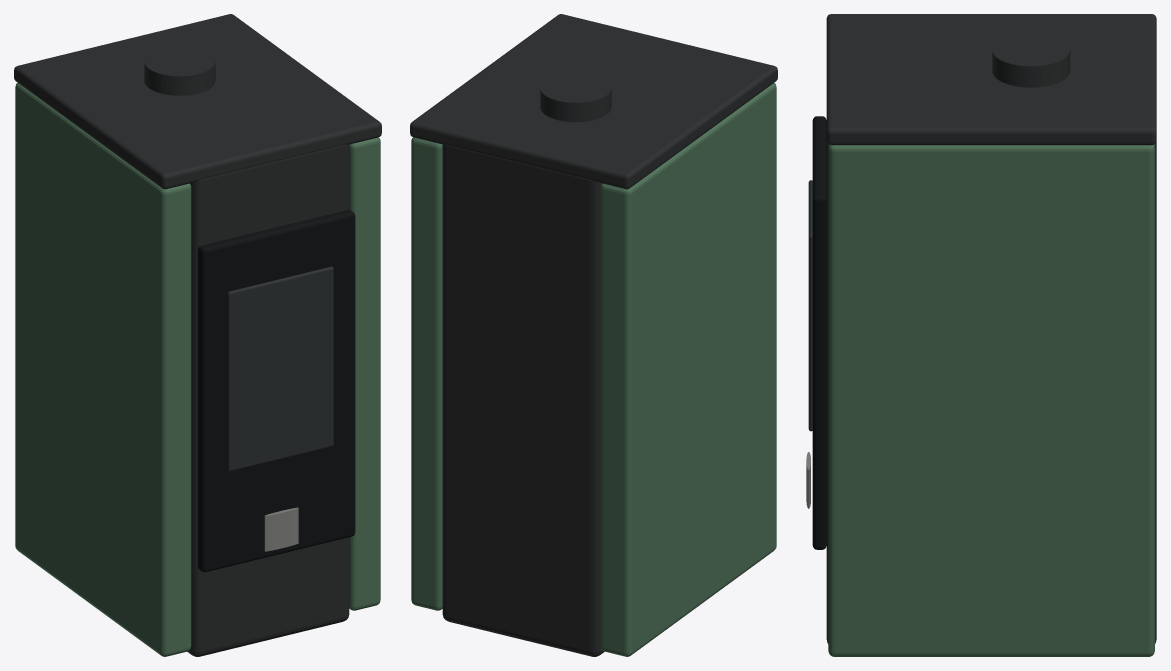
The model's file is nordica-super-junior-lean-verde.glb.
3 views of the same model, side by side, from view 1: azimuth 30°, elevation 25°; view 2: azimuth 150°, elevation 25°; view 3: azimuth 270°, elevation 25° (orthographic). The views are drawn at different scales.
Parts seen in each view (by area): view 1: Rivestimento laterale, Coperchio, Porta, Corpo, Vetro sportello, Rivestimento laterale.001, Scarico fumi, Regolatore aria; view 2: Rivestimento laterale, Corpo, Coperchio, Rivestimento laterale.001, Scarico fumi; view 3: Rivestimento laterale.001, Coperchio, Porta, Scarico fumi, Corpo, Vetro sportello.
Part boxes in pixels (x1,y1,x2,y2): Rivestimento laterale: [15, 82, 191, 656]; Coperchio: [14, 14, 381, 189]; Porta: [198, 210, 355, 572]; Corpo: [187, 144, 349, 656]; Vetro sportello: [227, 266, 333, 471]; Rivestimento laterale.001: [349, 137, 380, 610]; Scarico fumi: [144, 46, 215, 95]; Regolatore aria: [264, 507, 298, 551]; Rivestimento laterale: [600, 82, 776, 656]; Corpo: [442, 144, 604, 656]; Coperchio: [410, 14, 777, 189]; Rivestimento laterale.001: [411, 137, 442, 610]; Scarico fumi: [540, 72, 611, 122]; Rivestimento laterale.001: [828, 144, 1154, 656]; Coperchio: [826, 14, 1156, 145]; Porta: [812, 116, 826, 549]; Scarico fumi: [992, 33, 1070, 87]; Corpo: [826, 141, 1156, 643]; Vetro sportello: [808, 180, 812, 431].
Bounding box in the file's own units: 0.356 × 0.792 × 0.449.
